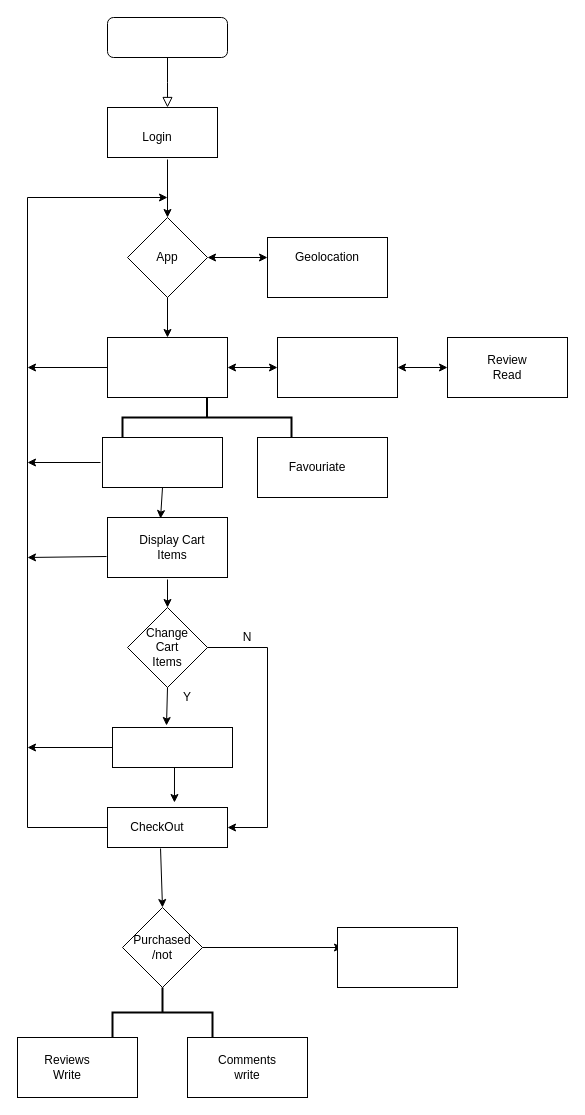
Some shapes in this 585 by 1115 pixel diagram are drawn without their labels. Here are the shapes that lost their labels. From the top down, the centre of each, then its label:
At point 167,37: "User".
At point 167,367: "View or Search Items".
At point 337,367: "Comments Read".
At point 162,462: "Add to Cart".
At point 172,747: "Change Item Quantities".
At point 397,957: "Cancel Login".
